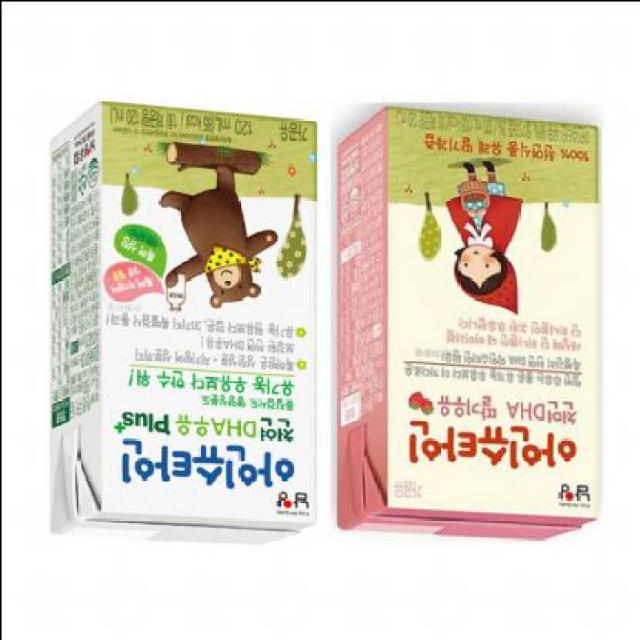tetra: (12, 87, 326, 564), (330, 87, 613, 562)
